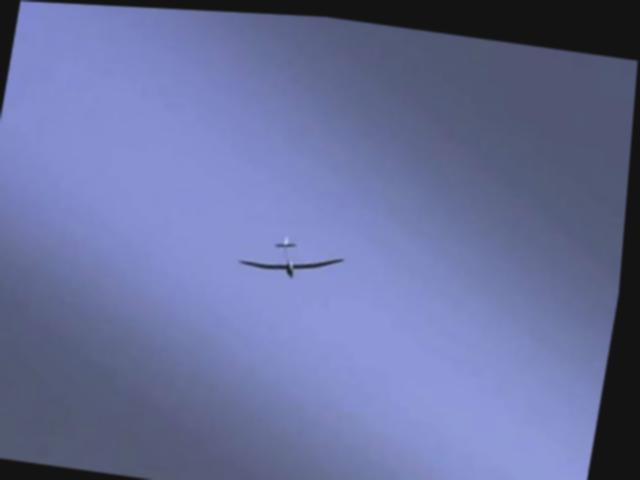flying wing: (236, 226, 354, 285)
